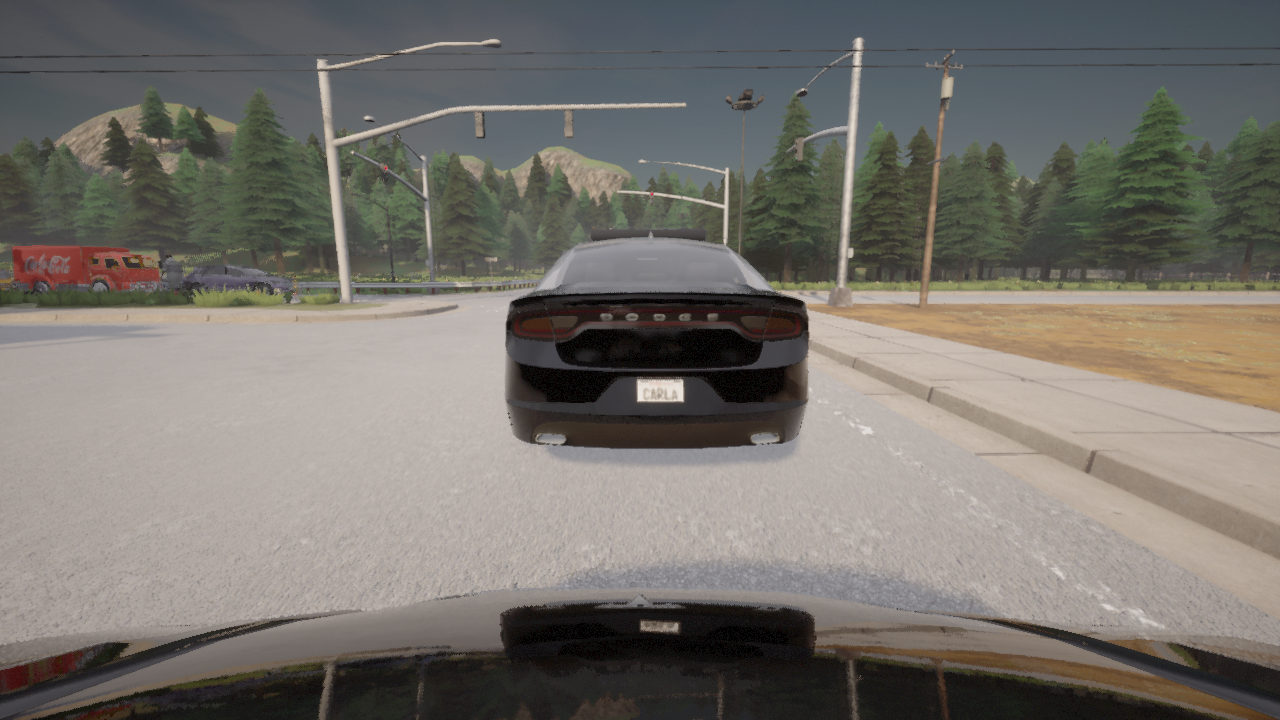cyclist: (0, 588, 1279, 719), (505, 227, 808, 448), (12, 246, 166, 297), (184, 265, 304, 298), (117, 274, 184, 294)
pedestrian: (159, 254, 183, 291), (291, 274, 299, 301)
